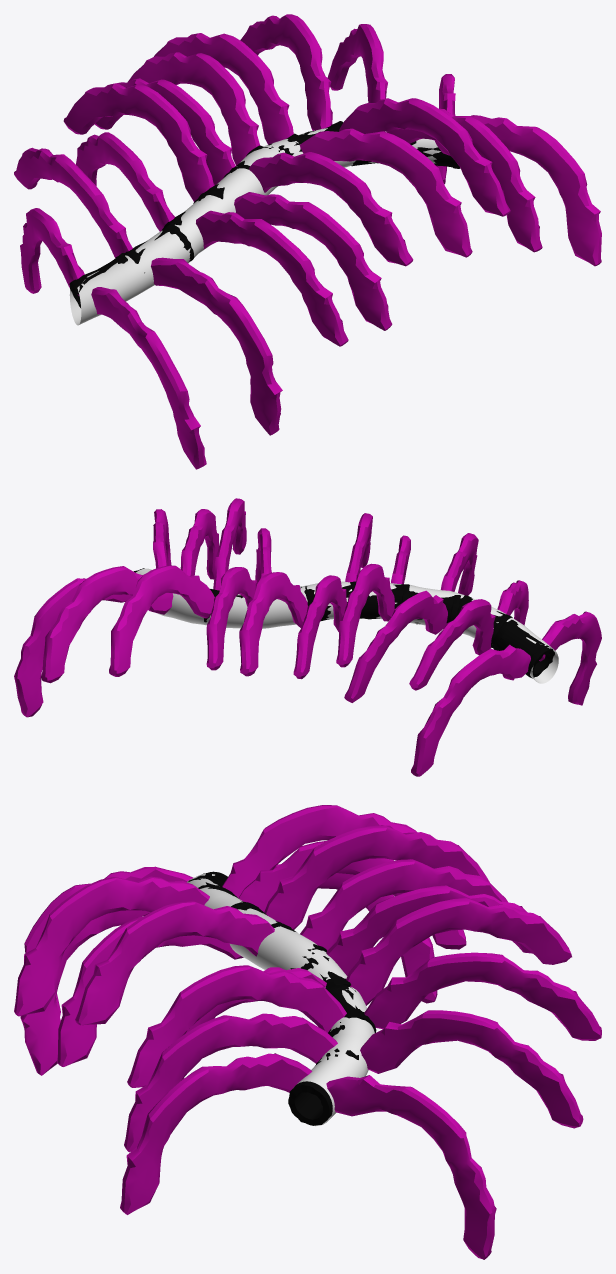
Rendered from lorensspine 1.fbx.
3 views of the same model, one above another, from view 1: azimuth 30°, elevation 25°; view 2: azimuth 150°, elevation 25°; view 3: azimuth 270°, elevation 25° (orthographic). The views are drawn at different scales.
Visible parts, largest first — view 1: Ribs, Walking, SpinePiece01; view 2: Ribs, Walking, SpinePiece01; view 3: Ribs, Walking, SpinePiece01.
Part boxes in pixels (x1=…): Ribs: x1=14, y1=14, x2=601, y2=469; Walking: x1=69, y1=128, x2=440, y2=325; SpinePiece01: x1=69, y1=121, x2=460, y2=307; Ribs: x1=14, y1=498, x2=601, y2=776; Walking: x1=136, y1=568, x2=558, y2=683; SpinePiece01: x1=134, y1=568, x2=554, y2=678; Ribs: x1=14, y1=805, x2=601, y2=1259; Walking: x1=187, y1=873, x2=374, y2=1126; SpinePiece01: x1=188, y1=871, x2=376, y2=1125.
Size of the model in its own units: 31397 by 14632 by 28458.
